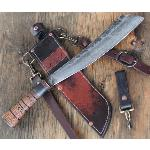Golok: (4, 12, 146, 128)
